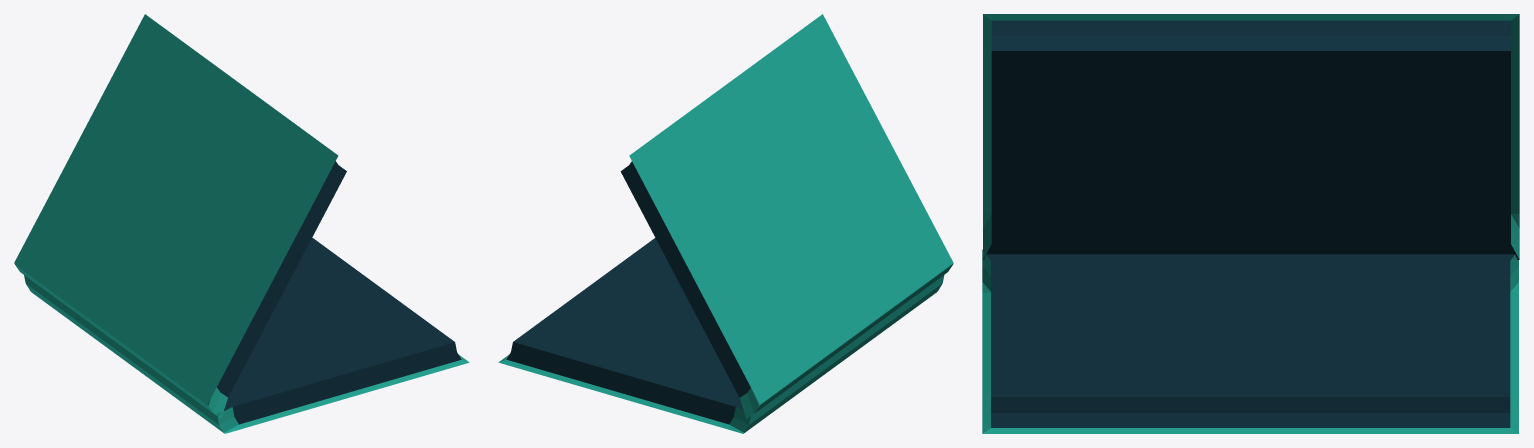
File: LibroSueltoROTADO.fbx
The picture shows the model from 3 angles, left to right: view 1: azimuth 30°, elevation 25°; view 2: azimuth 150°, elevation 25°; view 3: azimuth 270°, elevation 25°; orthographic projection. The views are drawn at different scales.
Visible parts, largest first — view 1: Cube.005, Cube.007; view 2: Cube.005, Cube.007; view 3: Cube.005, Cube.007.
Boxes of the visible parts, <box> form: Cube.005: <box>14,14,346,418</box>; Cube.007: <box>24,237,469,433</box>; Cube.005: <box>620,14,953,418</box>; Cube.007: <box>498,238,944,433</box>; Cube.005: <box>983,14,1519,259</box>; Cube.007: <box>982,249,1518,433</box>.
Bounding box in the file's own units: 156 × 143 × 200.
